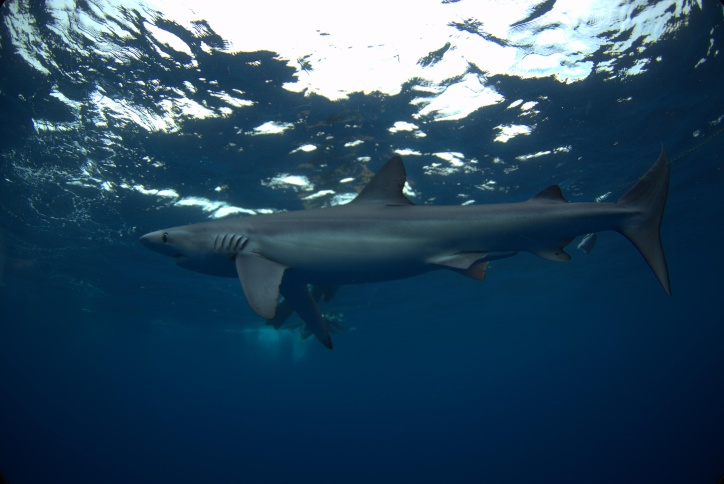Azul: (136, 135, 695, 347)
